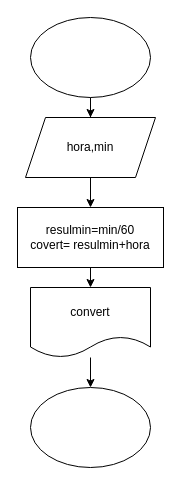
This 181x485 diagram has some shape labels left out. The centre of each missing label's shape, as x and y in pixels:
"fim" goes at pixel 90 427.
"inicio" goes at pixel 90 57.
